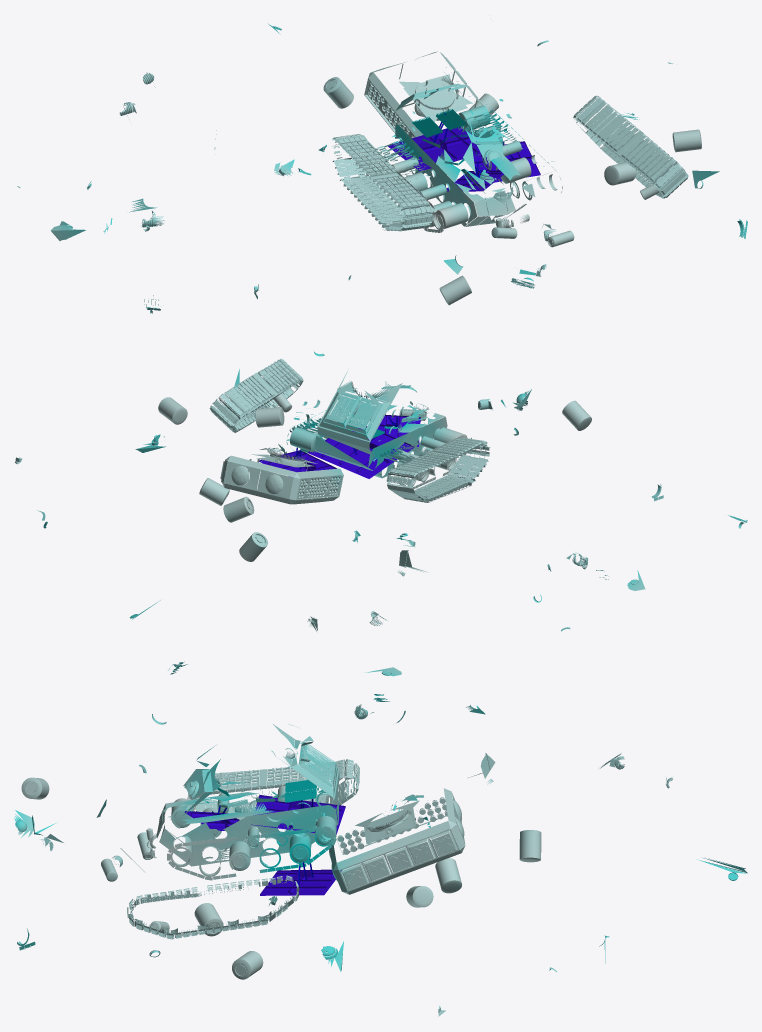
File: lrmc_wreck.glb
3 renders of one model, top to bottom at view 1: azimuth 30°, elevation 25°; view 2: azimuth 150°, elevation 25°; view 3: azimuth 270°, elevation 25°, orthographic. The views are drawn at different scales.
Visible parts, largest first — view 1: lrmc2, wrecked_track_r, wrecked_track_l, LrmPods, frame (×2), lrmc_turret, lrmc2_plate, wrecked_wheel_r5, wrecked_wheel_r4, wrecked_wheel_l0, wrecked_wheel_l4, wrecked_wheel_l2; view 2: LrmPods, lrmc2, wrecked_track_r, lrmc2_plate, wrecked_track_l, frame, lrmc_turret, wrecked_wheel_r3, wrecked_wheel_l2, wrecked_wheel_r5, wrecked_wheel_l4, wrecked_wheel_l0 (+2 smaller); view 3: lrmc2, LrmPods, wrecked_track_r, lrmc2_plate (×2), wrecked_track_l, frame (×2), lrmc_turret, wrecked_wheel_r3, wrecked_wheel_r5, wrecked_wheel_l0, wrecked_wheel_l4.
Boxes of the visible parts, x1,y1,x2,y2 form: lrmc2: (367,104,562,232); wrecked_track_r: (332,134,433,231); wrecked_track_l: (573,95,688,198); LrmPods: (364,51,500,162); frame (×2): (388,127,540,182); lrmc_turret: (399,72,472,121); lrmc2_plate: (463,117,509,172); wrecked_wheel_r5: (323,77,353,108); wrecked_wheel_r4: (436,203,468,229); wrecked_wheel_l0: (672,129,701,152); wrecked_wheel_l4: (604,162,636,185); wrecked_wheel_l2: (439,275,471,305); LrmPods: (220,455,343,504); lrmc2: (286,394,471,488); wrecked_track_r: (386,437,490,502); lrmc2_plate: (317,371,403,455); wrecked_track_l: (209,358,303,432); frame: (308,426,413,478); lrmc_turret: (251,447,317,467); wrecked_wheel_r3: (223,496,254,522); wrecked_wheel_l2: (562,400,591,430); wrecked_wheel_r5: (239,532,267,561); wrecked_wheel_l4: (255,407,284,427); wrecked_wheel_l0: (158,397,187,424); lrmc2: (146,779,339,880); LrmPods: (329,788,465,894); wrecked_track_r: (188,759,359,820); lrmc2_plate (×2): (183,724,339,815); wrecked_track_l: (127,875,299,939); frame (×2): (251,795,345,895); lrmc_turret: (355,800,419,844); wrecked_wheel_r3: (435,858,461,893); wrecked_wheel_r5: (519,830,541,862); wrecked_wheel_l0: (232,951,263,979); wrecked_wheel_l4: (194,903,223,936).
Bounding box in the file's own units: 29.81 × 5.05 × 26.88.
